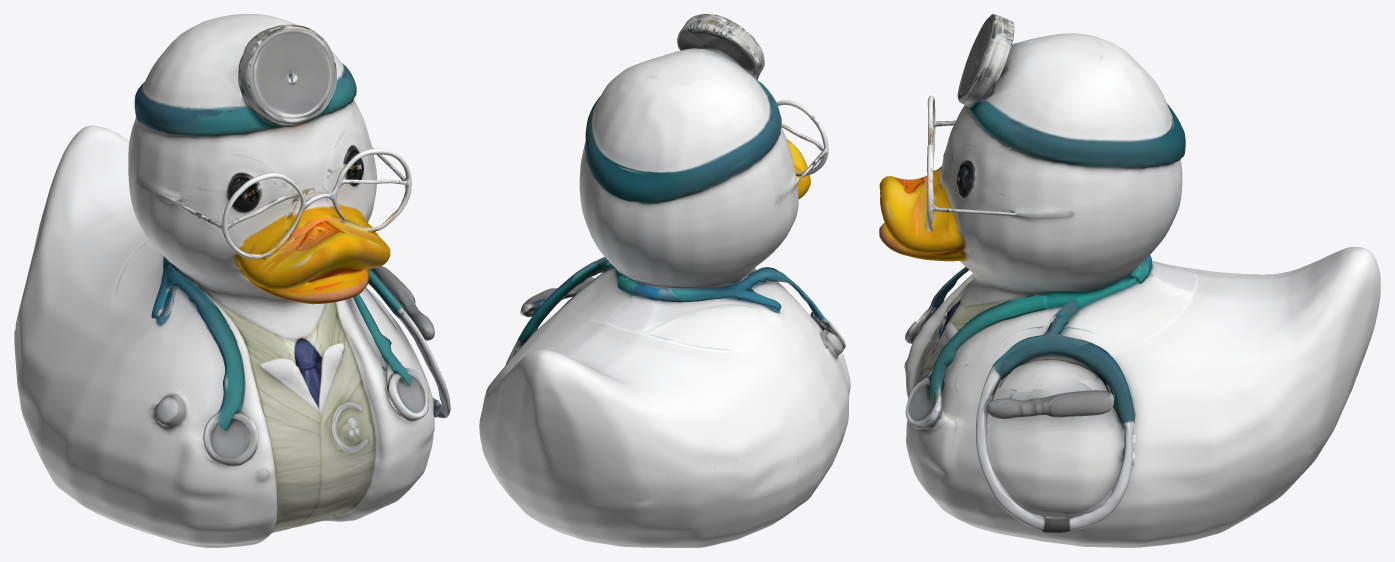
Rendered from duck.glb.
The picture shows the model from 3 angles, left to right: view 1: azimuth 30°, elevation 25°; view 2: azimuth 150°, elevation 25°; view 3: azimuth 270°, elevation 25°; orthographic projection. The views are drawn at different scales.
Visible parts, largest first — view 1: Mesh_0; view 2: Mesh_0; view 3: Mesh_0.
Boxes of the visible parts, x1,y1,x2,y2 form: Mesh_0: (14, 14, 450, 547); Mesh_0: (479, 14, 850, 547); Mesh_0: (879, 14, 1380, 547).
Size of the model in its own units: 0.7436 by 1 by 0.9623.
Materials: 1 (1 with a texture image).
